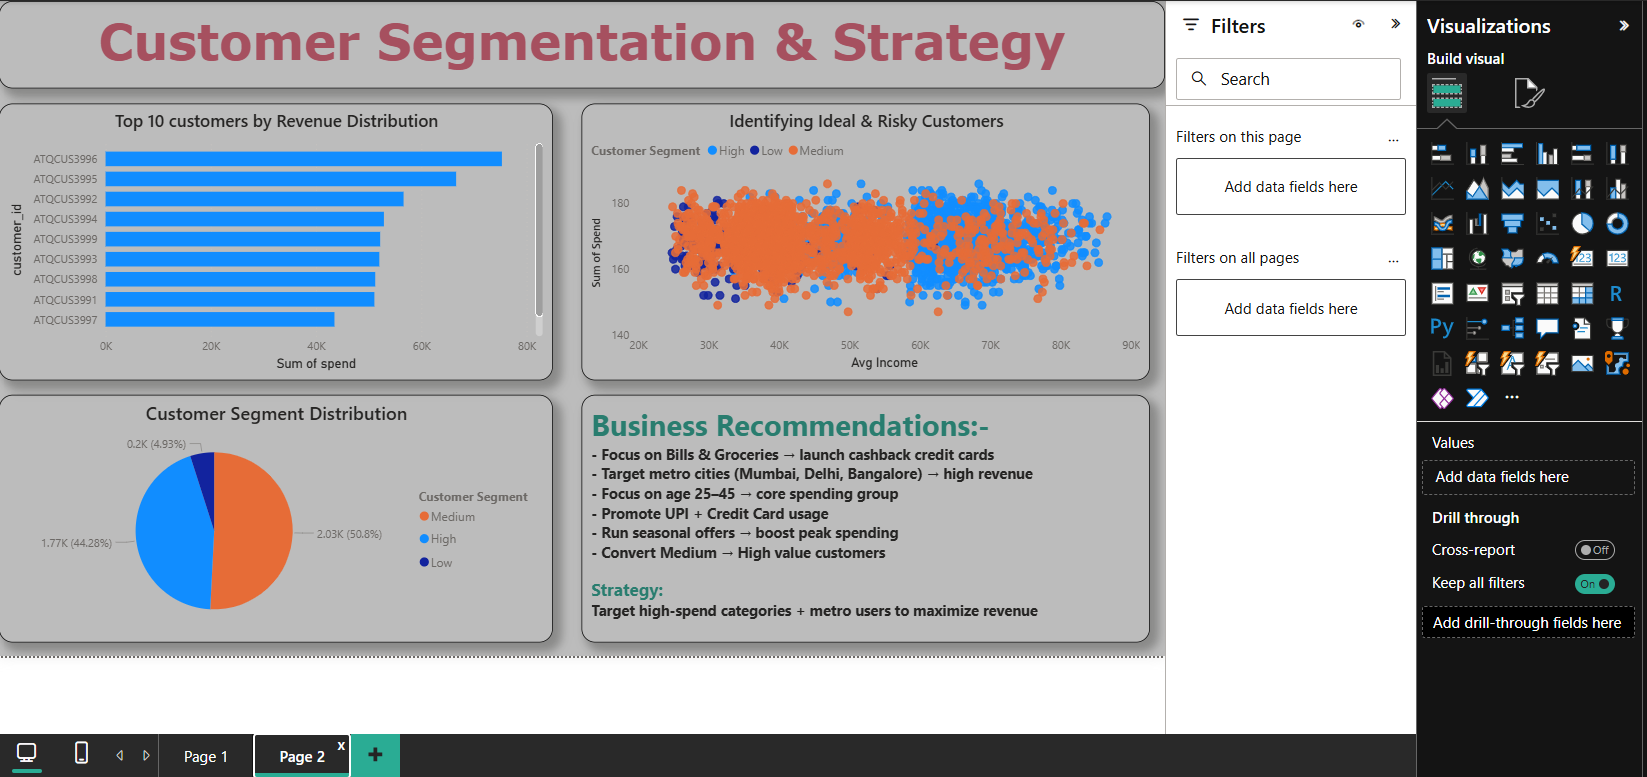

Layout of this report page (visuals, bound fields, positions):
{"tool":"powerbi","page":{"name":"Page 2","canvas":[1280,720],"ordinal":1},"visuals":[{"type":"textbox","box":[0,0,1280,96],"z":0},{"type":"clusteredBarChart","title":"Top 10 customers by Revenue Distribution","fields":{"Category":["data.customer_id"],"Y":["Sum(data.spend)"]},"box":[0,112,608,304],"z":1},{"type":"pieChart","title":"Customer Segment Distribution","fields":{"Category":["data.Customer Segment"],"Y":["Count(data.customer_id)"]},"box":[0,432,608,272],"z":2},{"type":"scatterChart","title":"Identifying Ideal & Risky Customers","fields":{"X":["data.Avg Income"],"Y":["CountNonNull(data.spend)"],"Series":["data.Customer Segment"],"Category":["data.customer_id"]},"box":[640,112,624,304],"z":3},{"type":"textbox","box":[640,432,624,272],"z":6}]}

Visuals, with their boxes on the page's 1280x720 design canvas (x1, y1, x2, y2). These are canvas units, not pixel positions in the 1647x777 screenshot, which may show the page scaled, cropped or inside an application window:
textbox: (x1=0, y1=0, x2=1280, y2=96)
"Top 10 customers by Revenue Distribution" clusteredBarChart: (x1=0, y1=112, x2=608, y2=416)
"Customer Segment Distribution" pieChart: (x1=0, y1=432, x2=608, y2=704)
"Identifying Ideal & Risky Customers" scatterChart: (x1=640, y1=112, x2=1264, y2=416)
textbox: (x1=640, y1=432, x2=1264, y2=704)
